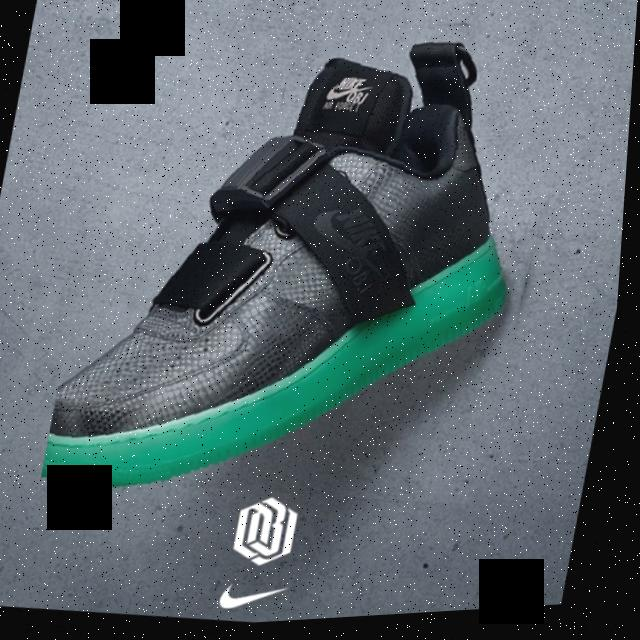shoe: (44, 0, 589, 534)
